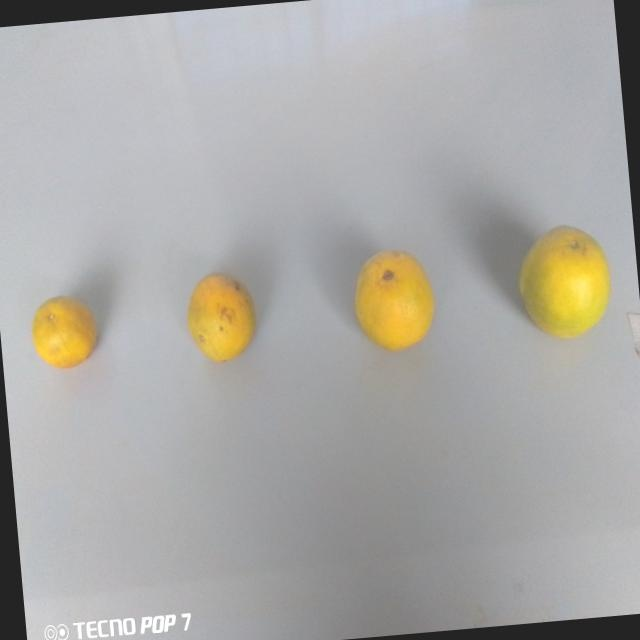agrume: (514, 206, 623, 346), (346, 242, 446, 370), (177, 256, 258, 378), (22, 292, 106, 371)
